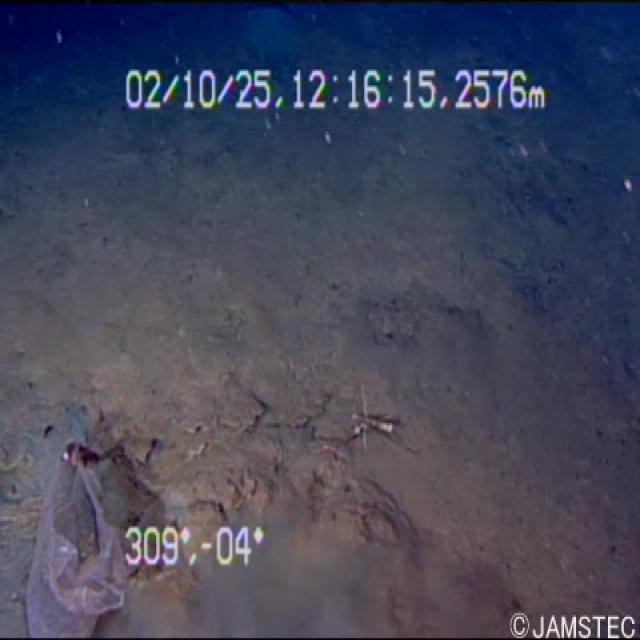plastic: (22, 411, 138, 638)
